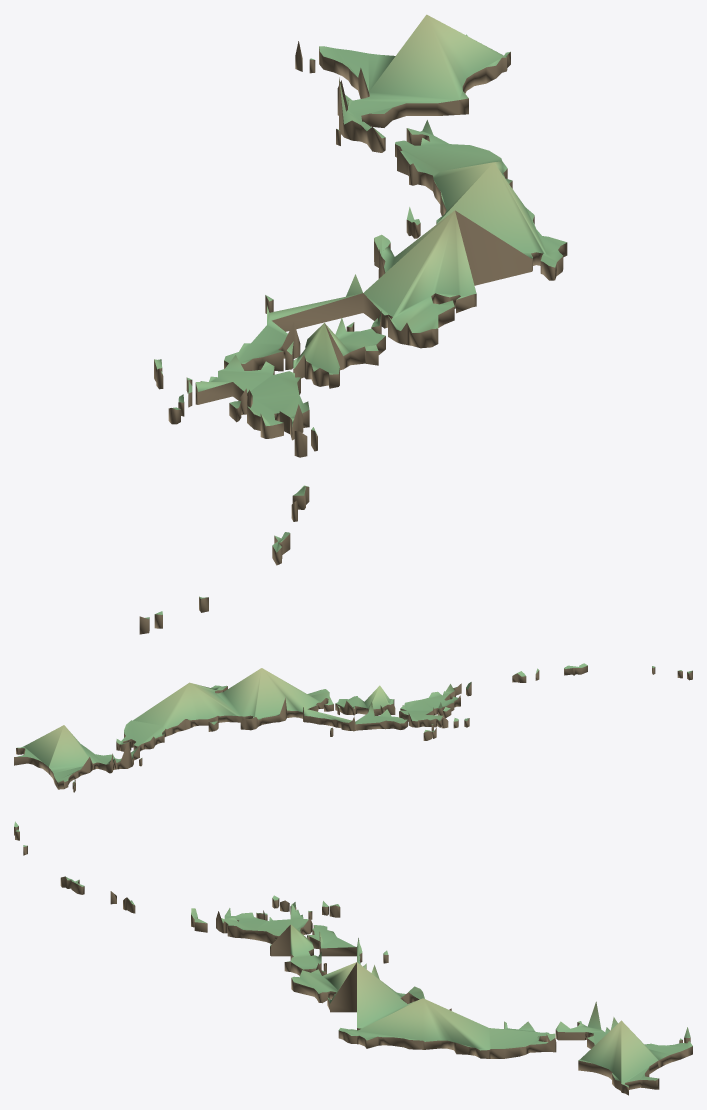
File: JPN.glb
3 renders of one model, top to bottom at view 1: azimuth 30°, elevation 25°; view 2: azimuth 150°, elevation 25°; view 3: azimuth 270°, elevation 25°, orthographic. The views are drawn at different scales.
Visible parts, largest first — view 1: JPN; view 2: JPN; view 3: JPN.
Boxes of the visible parts, <box> form: JPN: <box>139,14,567,634</box>; JPN: <box>14,663,692,792</box>; JPN: <box>14,821,692,1095</box>.
Bounding box in the file's own units: 1.27 × 0.1132 × 1.39.
